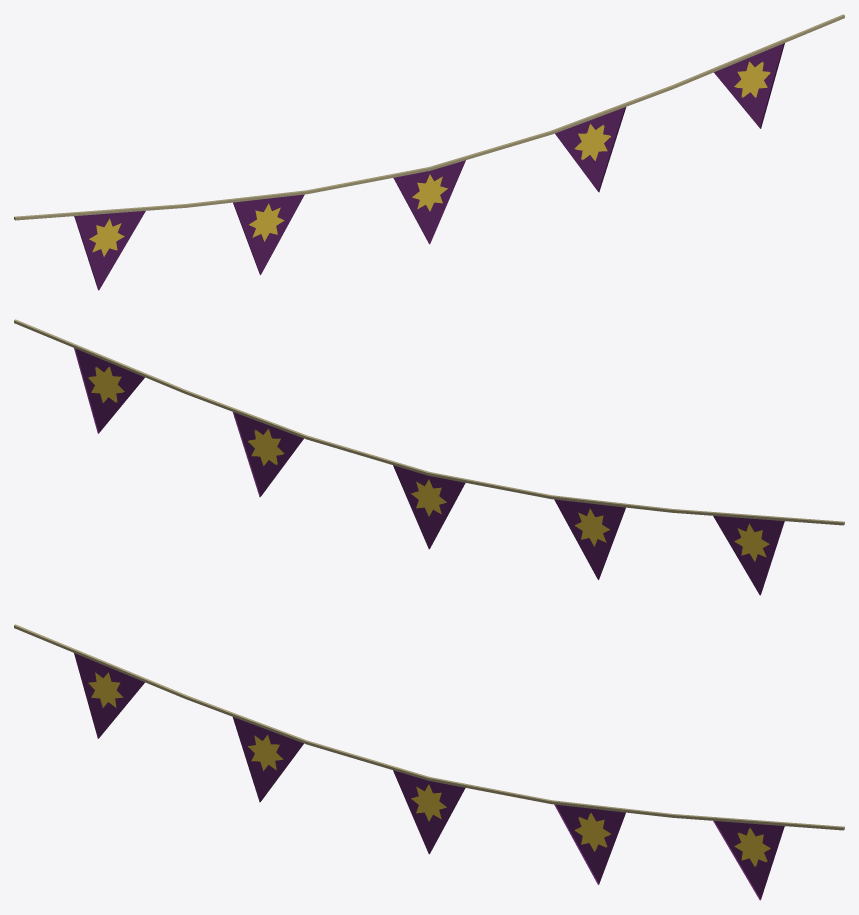
File: fantasy_hanging_banners_1.fbx
3 views of the same model, one above another, from view 1: azimuth 30°, elevation 25°; view 2: azimuth 150°, elevation 25°; view 3: azimuth 330°, elevation 25° (orthographic).
Visible parts, largest first — view 1: Cube.030, Cube.029; view 2: Cube.030, Cube.029; view 3: Cube.030, Cube.029.
Boxes of the visible parts, x1,y1,x2,y2 form: Cube.030: (74,43,784,290); Cube.029: (14,14,844,220); Cube.030: (74,348,784,595); Cube.029: (14,319,844,525); Cube.030: (74,653,784,900); Cube.029: (14,624,844,830).
Size of the model in its own units: 800 by 118 by 2.5.
